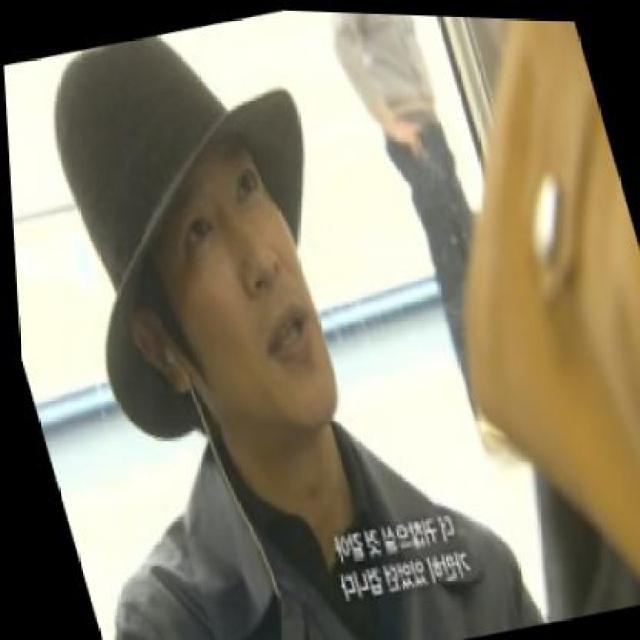hat: (54, 34, 302, 439)
